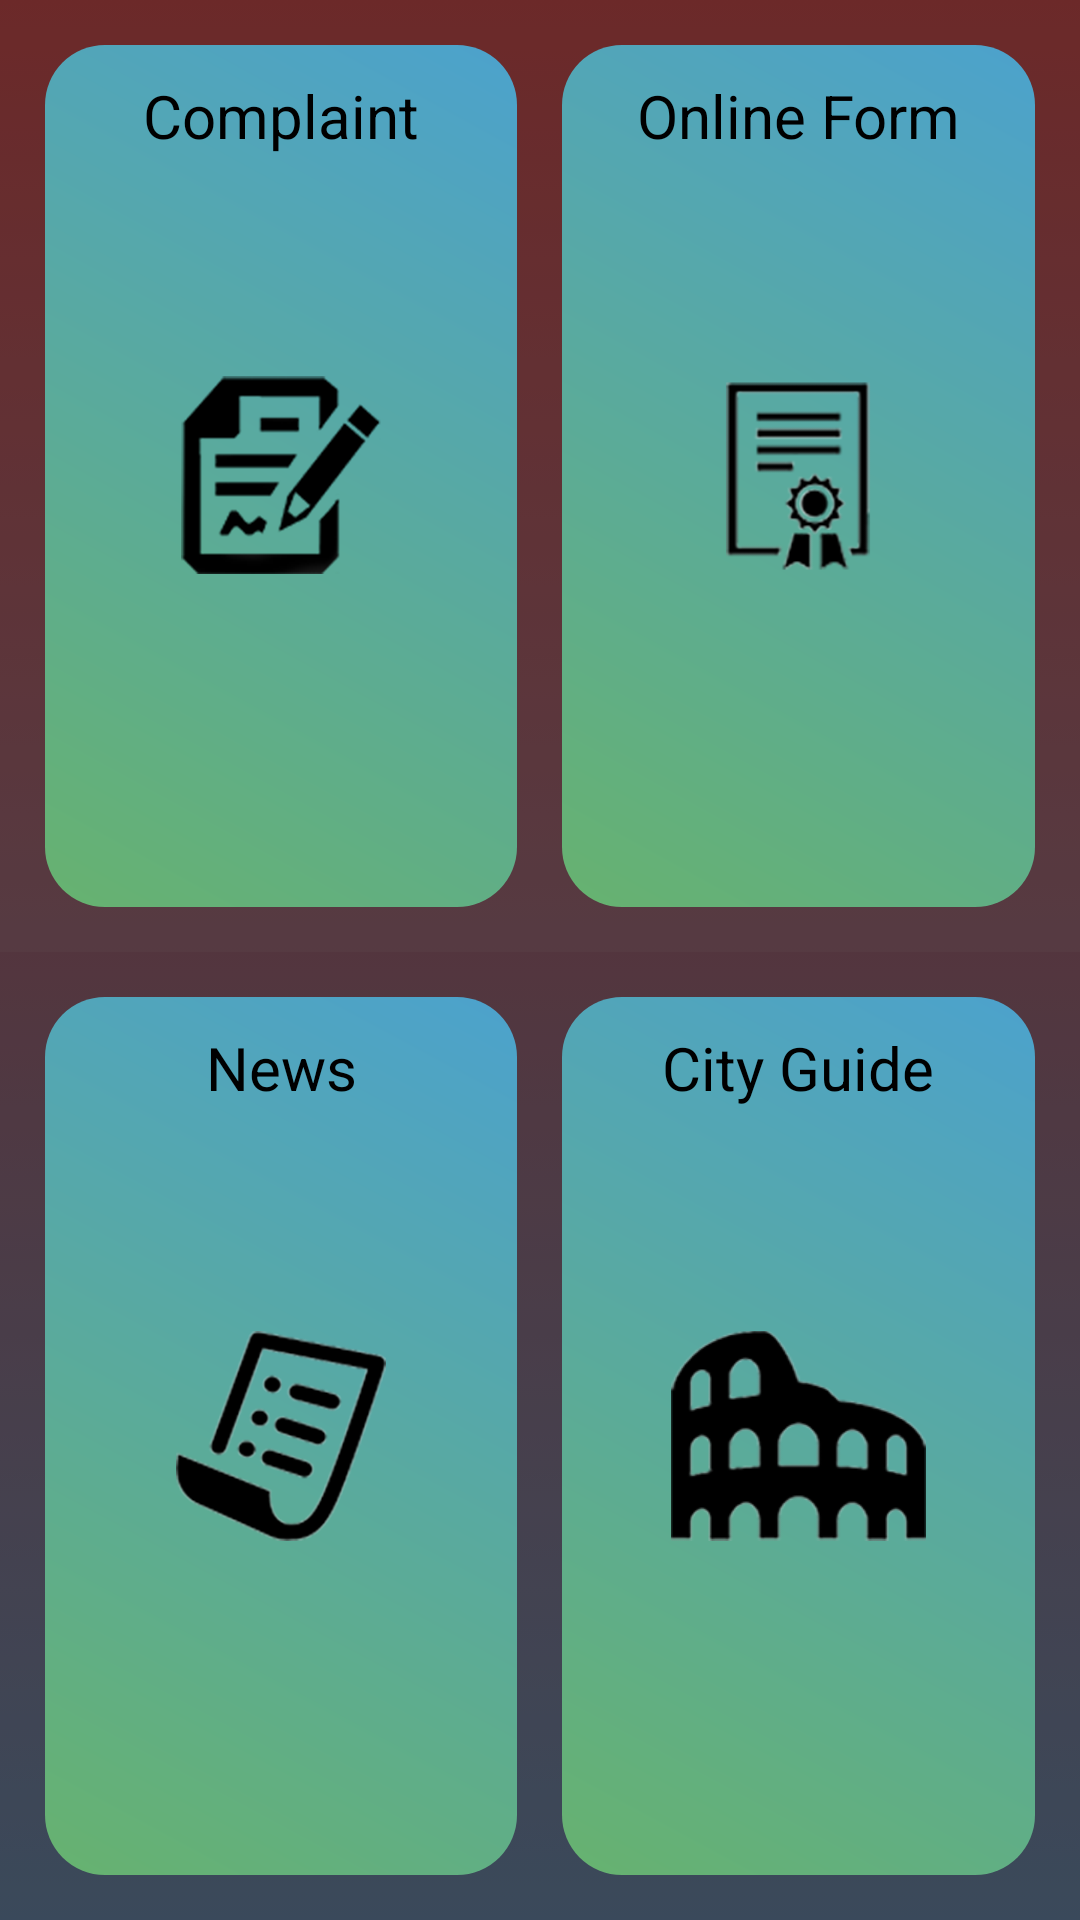

Where icons sit on this 1080x1920 app screen, as (x1, y1, x2, y2):
certi: (678, 356, 918, 571)
complain: (181, 376, 381, 574)
